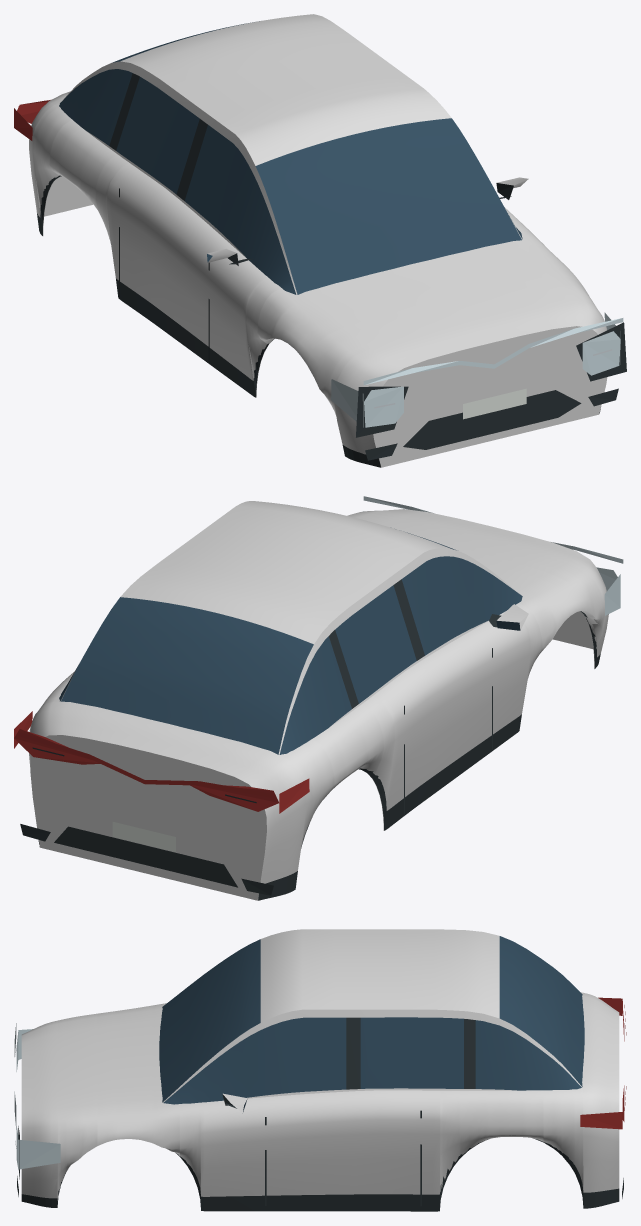
File: veh_vf6-lod0.glb
3 renders of one model, top to bottom at view 1: azimuth 30°, elevation 25°; view 2: azimuth 150°, elevation 25°; view 3: azimuth 270°, elevation 25°, orthographic. The views are drawn at different scales.
Visible parts, largest first — view 1: paint, glass, trim, head, plate, tail; view 2: paint, glass, trim, tail, head, plate; view 3: paint, glass, trim, head, tail.
Part boxes in pixels (<box>): paint: <box>29,14,607,467</box>; glass: <box>59,21,522,294</box>; trim: <box>37,73,626,467</box>; head: <box>331,312,623,427</box>; plate: <box>463,388,526,419</box>; tail: <box>14,100,50,140</box>; paint: <box>29,501,608,900</box>; glass: <box>59,532,522,754</box>; trim: <box>20,579,600,900</box>; tail: <box>14,711,309,813</box>; head: <box>363,496,623,615</box>; plate: <box>112,822,175,852</box>; paint: <box>21,929,619,1200</box>; glass: <box>159,936,584,1111</box>; trim: <box>17,1017,623,1211</box>; head: <box>14,1023,60,1169</box>; tail: <box>580,997,626,1129</box>.
Bounding box in the file's own units: 1.51 × 1.01 × 2.9.
